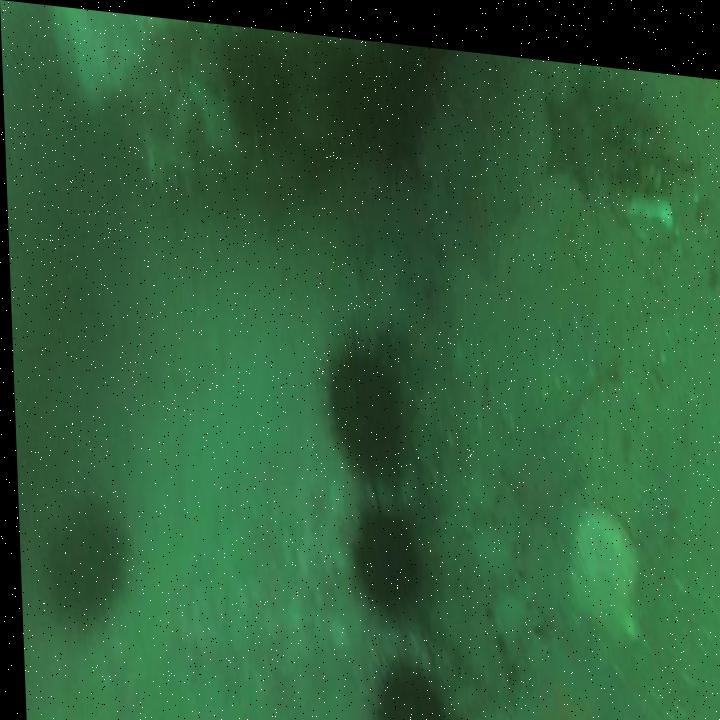echinus: (324, 337, 402, 470), (44, 504, 122, 630), (350, 499, 414, 605), (374, 659, 435, 720)
holothurian: (531, 334, 599, 425)
scallop: (560, 493, 636, 637)
starfish: (543, 80, 610, 192)
